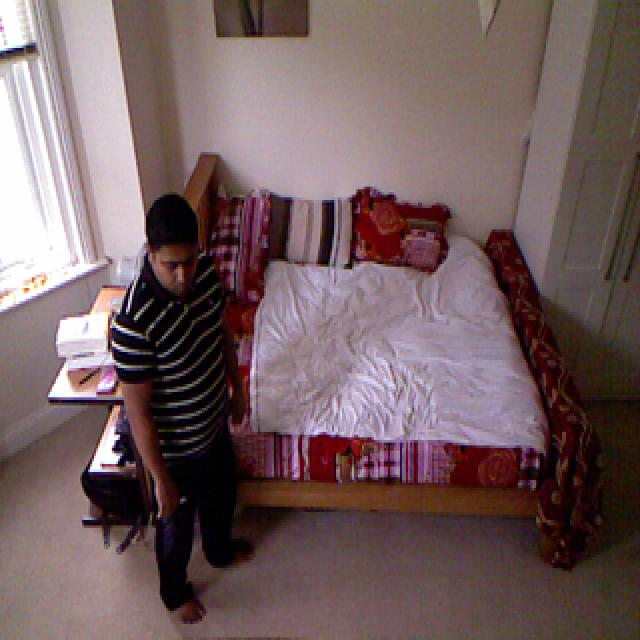standing: (121, 188, 262, 617)
